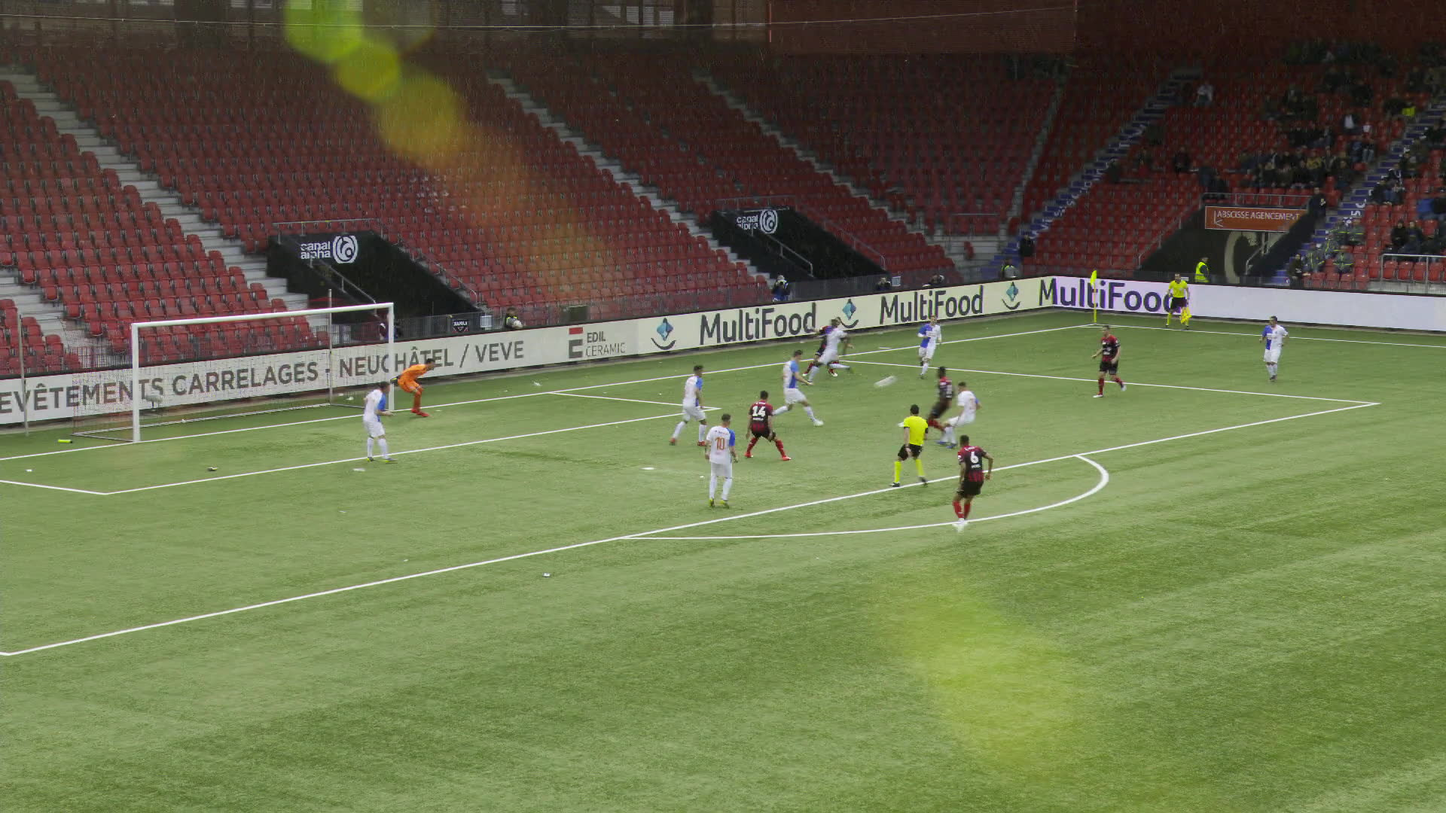ball: (874, 376, 895, 387)
player: (945, 435, 996, 532), (760, 348, 808, 425), (698, 413, 735, 509), (662, 364, 705, 444), (354, 381, 393, 462), (920, 366, 962, 440), (736, 388, 779, 458), (939, 379, 982, 447), (804, 314, 849, 376), (389, 358, 432, 417), (814, 318, 849, 386), (1089, 323, 1118, 396), (1253, 315, 1283, 380), (909, 314, 937, 376)
referee: (886, 403, 929, 486), (1159, 270, 1185, 327)
